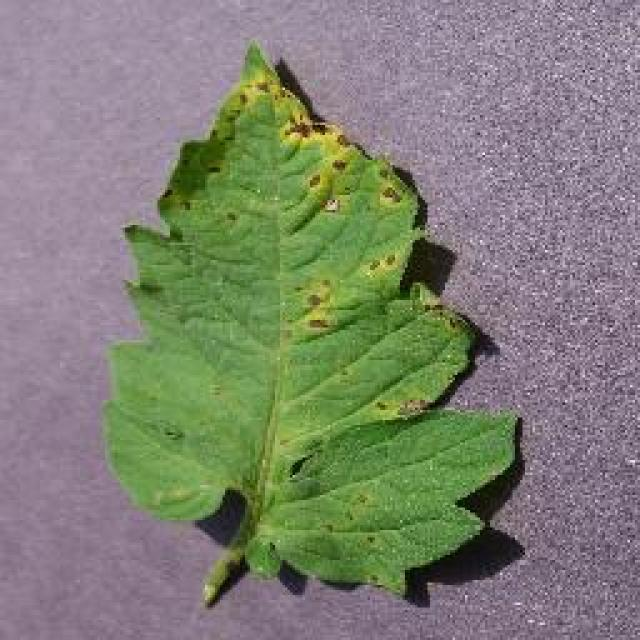Tomato Septoria spot leaf: (104, 41, 522, 596)
